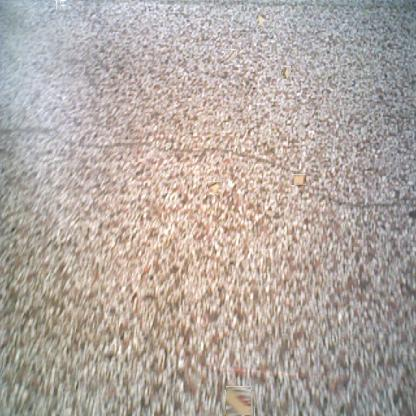dirty: (223, 388, 253, 416), (256, 14, 272, 26), (209, 181, 222, 195), (293, 173, 306, 186), (224, 50, 237, 62), (282, 68, 293, 78), (54, 0, 63, 8)
